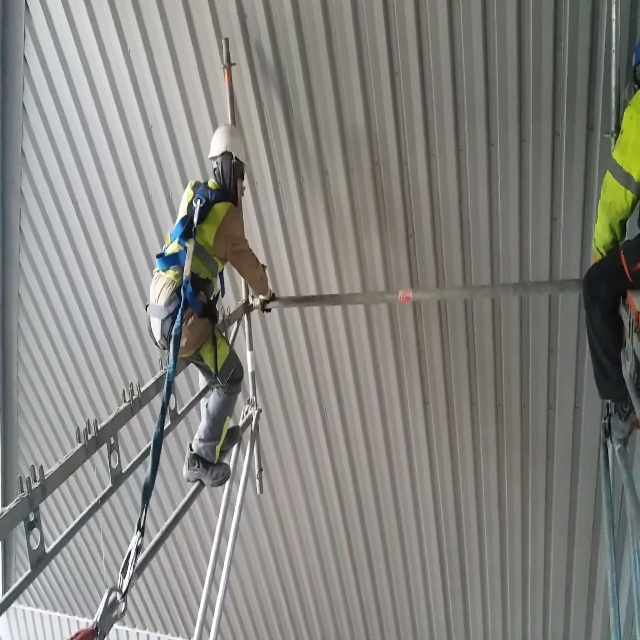Arnes_seguridad: (144, 172, 238, 365)
